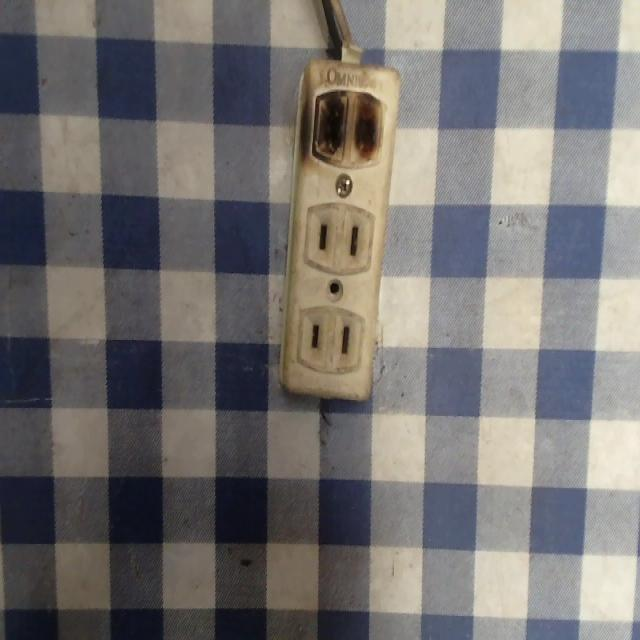-: (309, 81, 385, 166)
